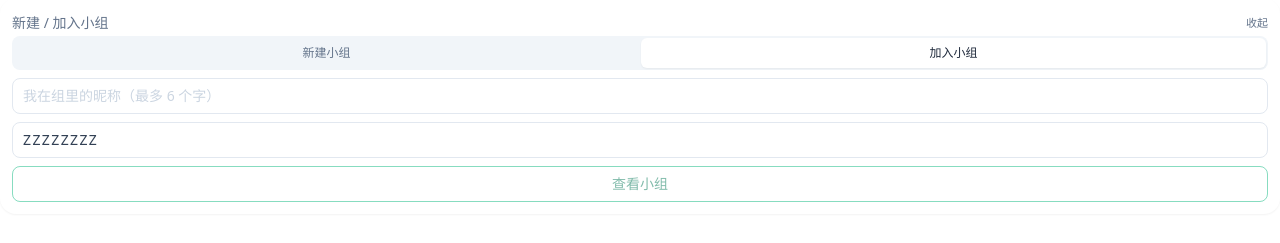
it: CollectionGroupSetup（二期） › 邀请码无效时展示错误，不进入确认态
Type "阿乙" into the field with test id "group-setup-nickname" at (640, 96), box [12,78,1268,114]
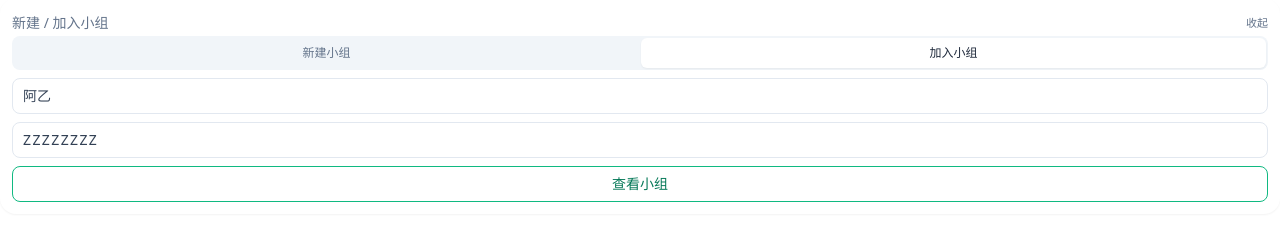
Click the button with test id "group-join-preview" at (640, 184), box [12,166,1268,202]
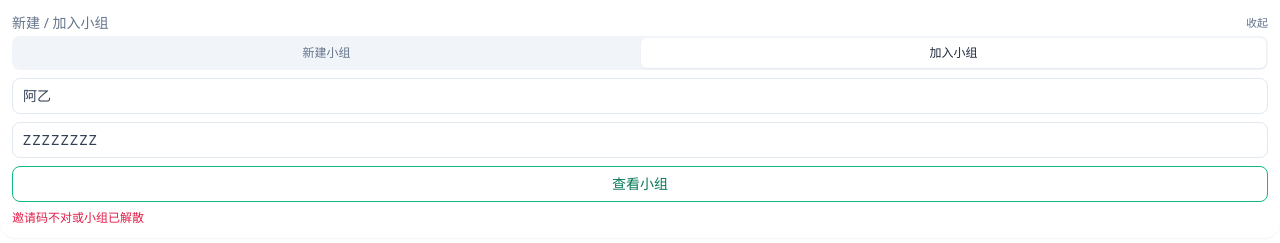
Result: the text with test id "group-setup-error" shows "邀请码不对" at [12,209,144,226]
